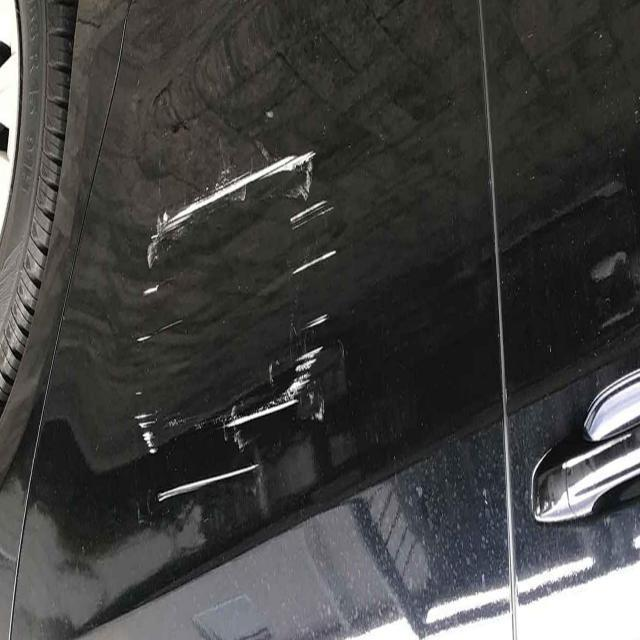scratch: (127, 122, 346, 522)
